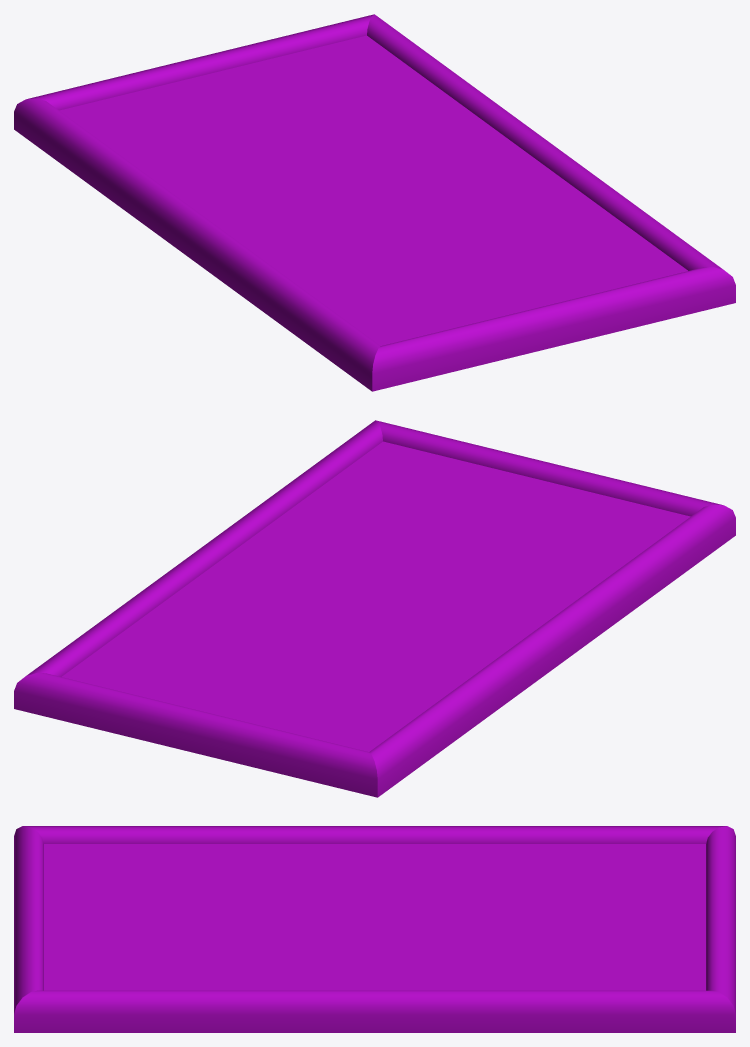
File: PatchFrame_MD.fbx
3 views of the same model, one above another, from view 1: azimuth 30°, elevation 25°; view 2: azimuth 150°, elevation 25°; view 3: azimuth 270°, elevation 25° (orthographic).
Visible parts, largest first — view 1: Glas_low, Frame_low; view 2: Glas_low, Frame_low; view 3: Glas_low, Frame_low.
Boxes of the visible parts, left/top/right/bottom form: Glas_low: left=59, top=35, right=687, bottom=345; Frame_low: left=14, top=14, right=735, bottom=391; Glas_low: left=62, top=441, right=690, bottom=751; Frame_low: left=14, top=420, right=735, bottom=797; Glas_low: left=44, top=844, right=705, bottom=990; Frame_low: left=14, top=826, right=735, bottom=1032.
Size of the model in its own units: 17 by 1.5 by 29.
